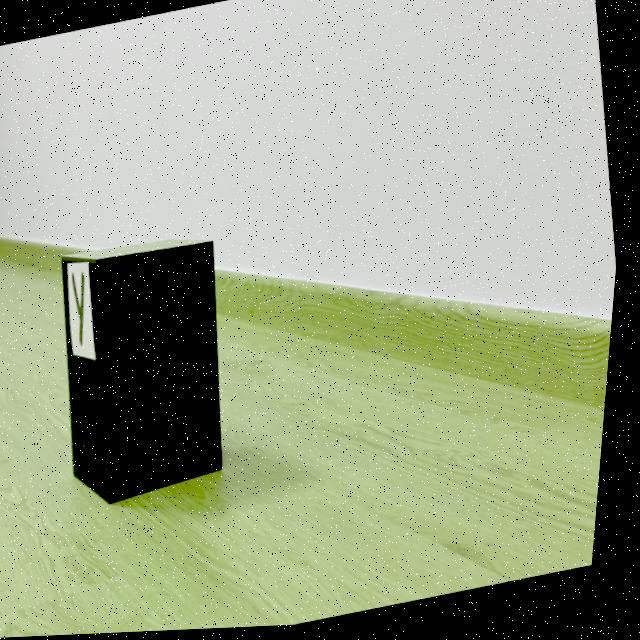Y: (76, 273, 90, 346)
